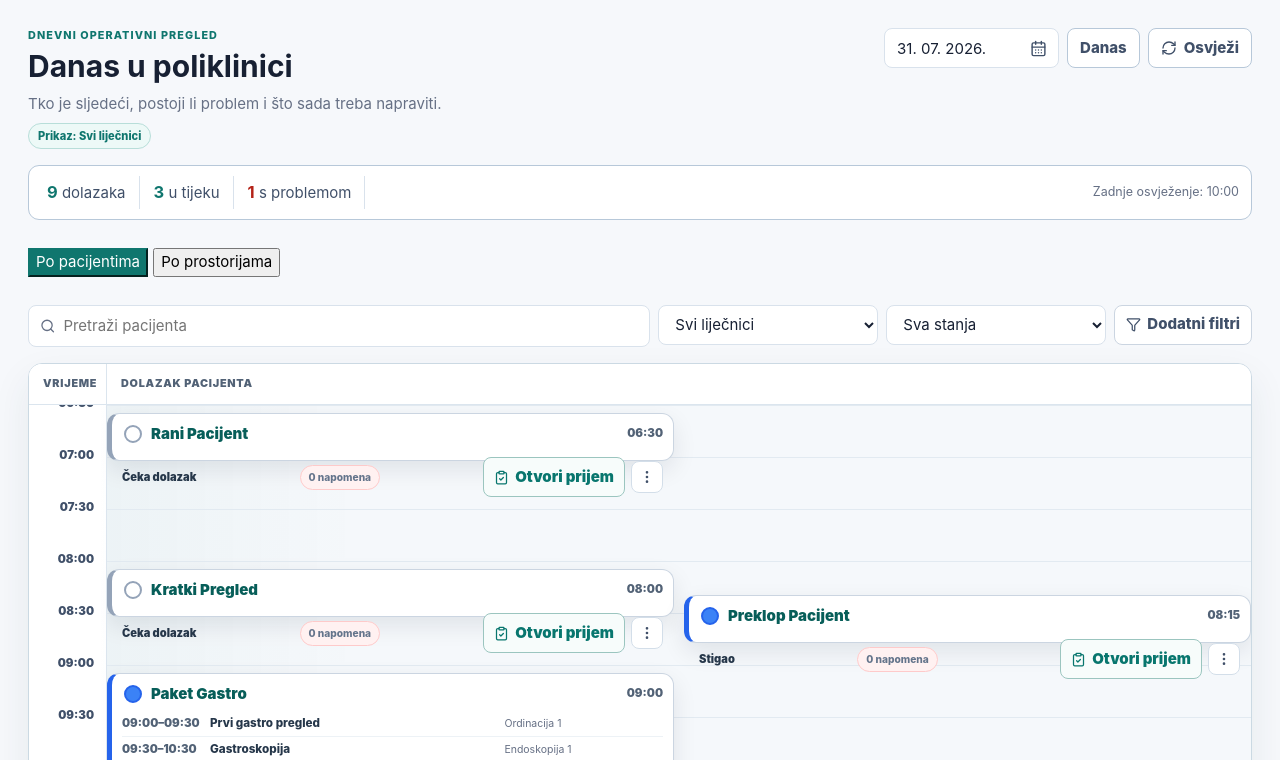
Test: vremenska dnevna ploča › otvori prijem continues to open dashboard-native reception modal
Check: the button "Kratki Pregled" is shown, box x1=151 y1=579 x2=258 y2=601
Click the button "Otvori prijem" in the row of "Prvi pregled": point(554, 633) x1=483 y1=613 x2=625 y2=653
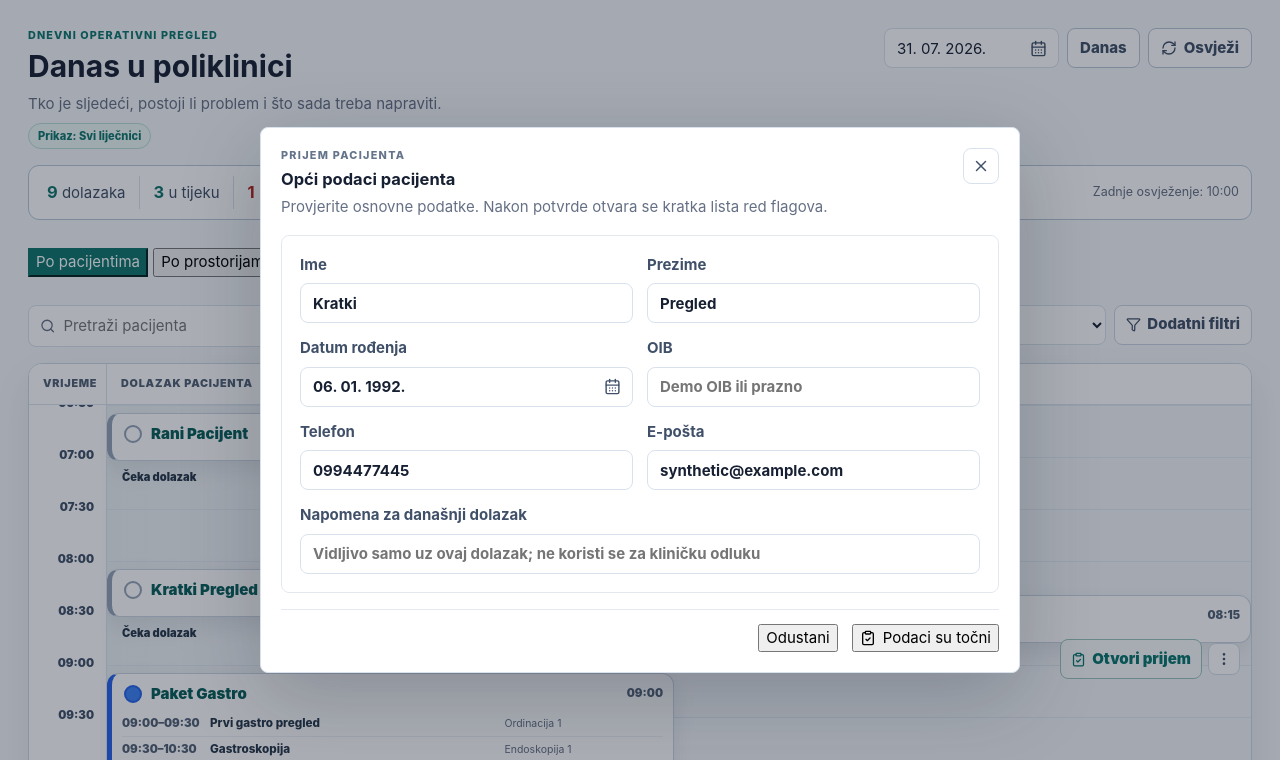
Check: the dialog "Opći podaci pacijenta" is shown, box x1=260 y1=126 x2=1020 y2=673
